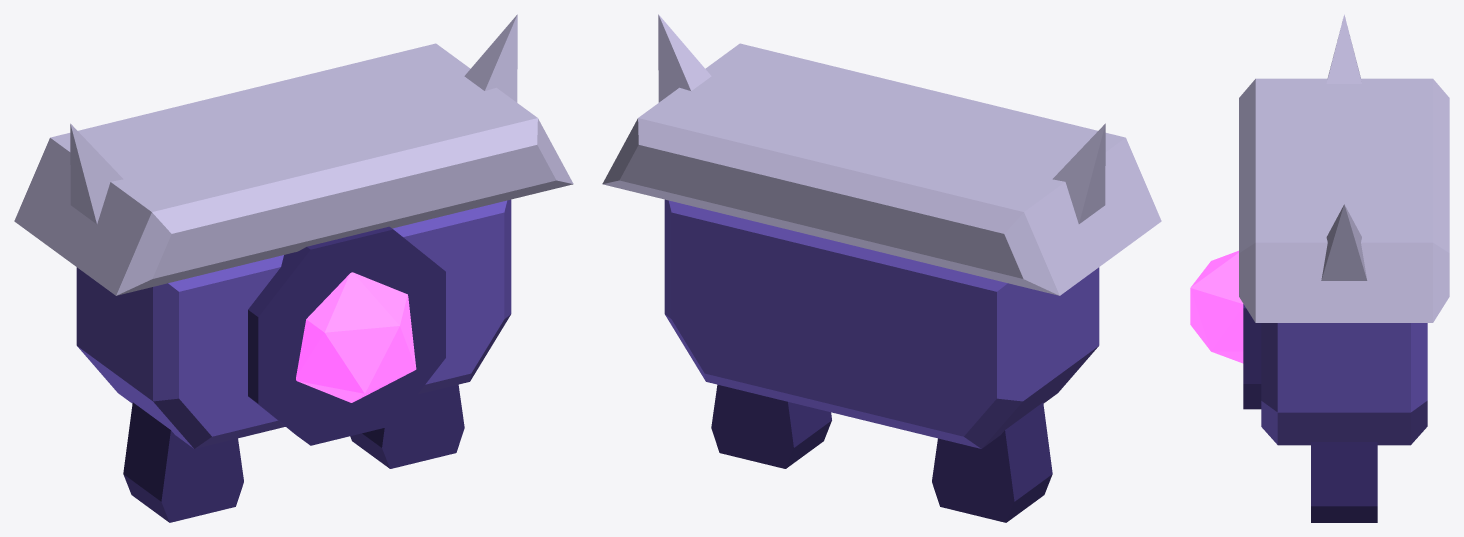
Rendered from warden.glb.
3 renders of one model, left to right at view 1: azimuth 30°, elevation 25°; view 2: azimuth 150°, elevation 25°; view 3: azimuth 270°, elevation 25°, orthographic. The views are drawn at different scales.
Visible parts, largest first — view 1: plate, body, core, foot_L, foot_R, spike_L, spike_R; view 2: plate, body, foot_L, foot_R, spike_L, spike_R; view 3: plate, body, foot_R, core, spike_R, spike_L.
Part boxes in pixels (x1,y1,x2,y2): plate: (14, 43, 573, 295); body: (76, 199, 511, 448); core: (296, 272, 416, 402); foot_L: (123, 402, 243, 522); foot_R: (350, 384, 464, 468); spike_L: (70, 123, 123, 224); spike_R: (464, 14, 517, 102); plate: (602, 43, 1161, 295); body: (664, 199, 1099, 448); foot_L: (932, 402, 1052, 522); foot_R: (711, 384, 831, 468); spike_L: (1052, 123, 1105, 223); spike_R: (658, 14, 711, 102); plate: (1239, 78, 1449, 322); body: (1243, 304, 1427, 445); foot_R: (1311, 442, 1377, 522); core: (1190, 250, 1243, 363); spike_R: (1321, 204, 1367, 280); spike_L: (1326, 14, 1361, 83).
Bounding box in the file's own units: 16.6 × 14.05 × 9.36.
